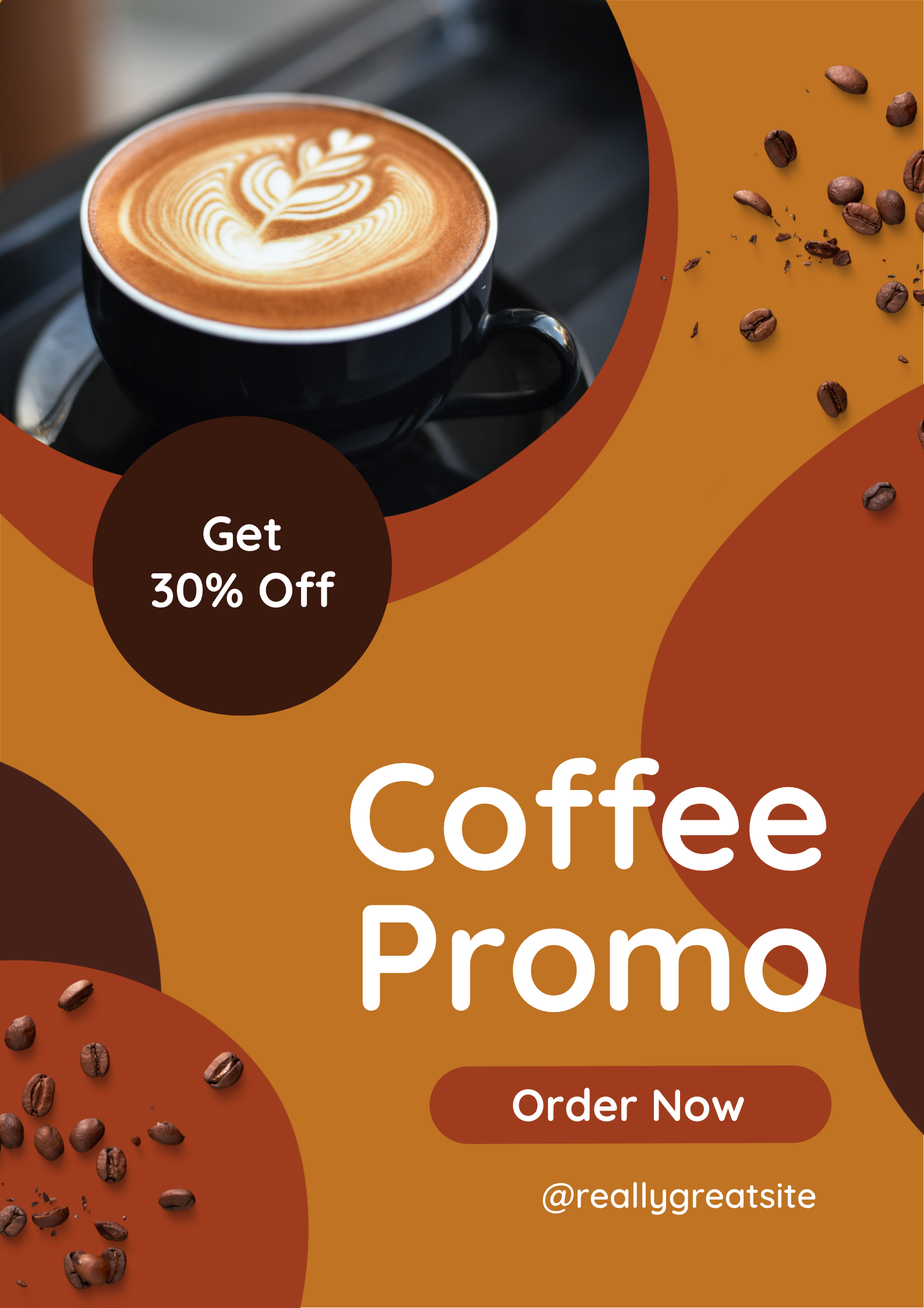CTA: (495, 1070, 756, 1133)
Headline: (326, 738, 849, 1052)
Price: (128, 484, 358, 637)
Product: (77, 76, 512, 358)
